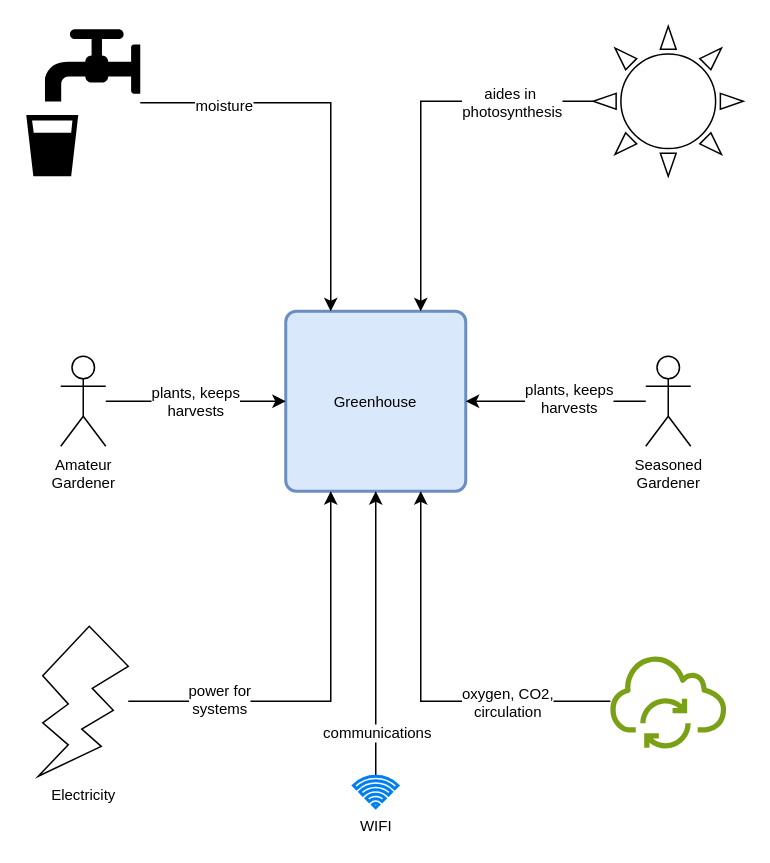
Some shapes in this 770 by 863 pixel diagram are drawn without their labels. The shapes that lost their labels are listed below. From the top down, each one's box as (x1, y1, x2, y2) in pixels, then its label:
(26, 28, 140, 176): Water
(592, 25, 743, 176): Sunlight
(609, 653, 726, 748): Air
